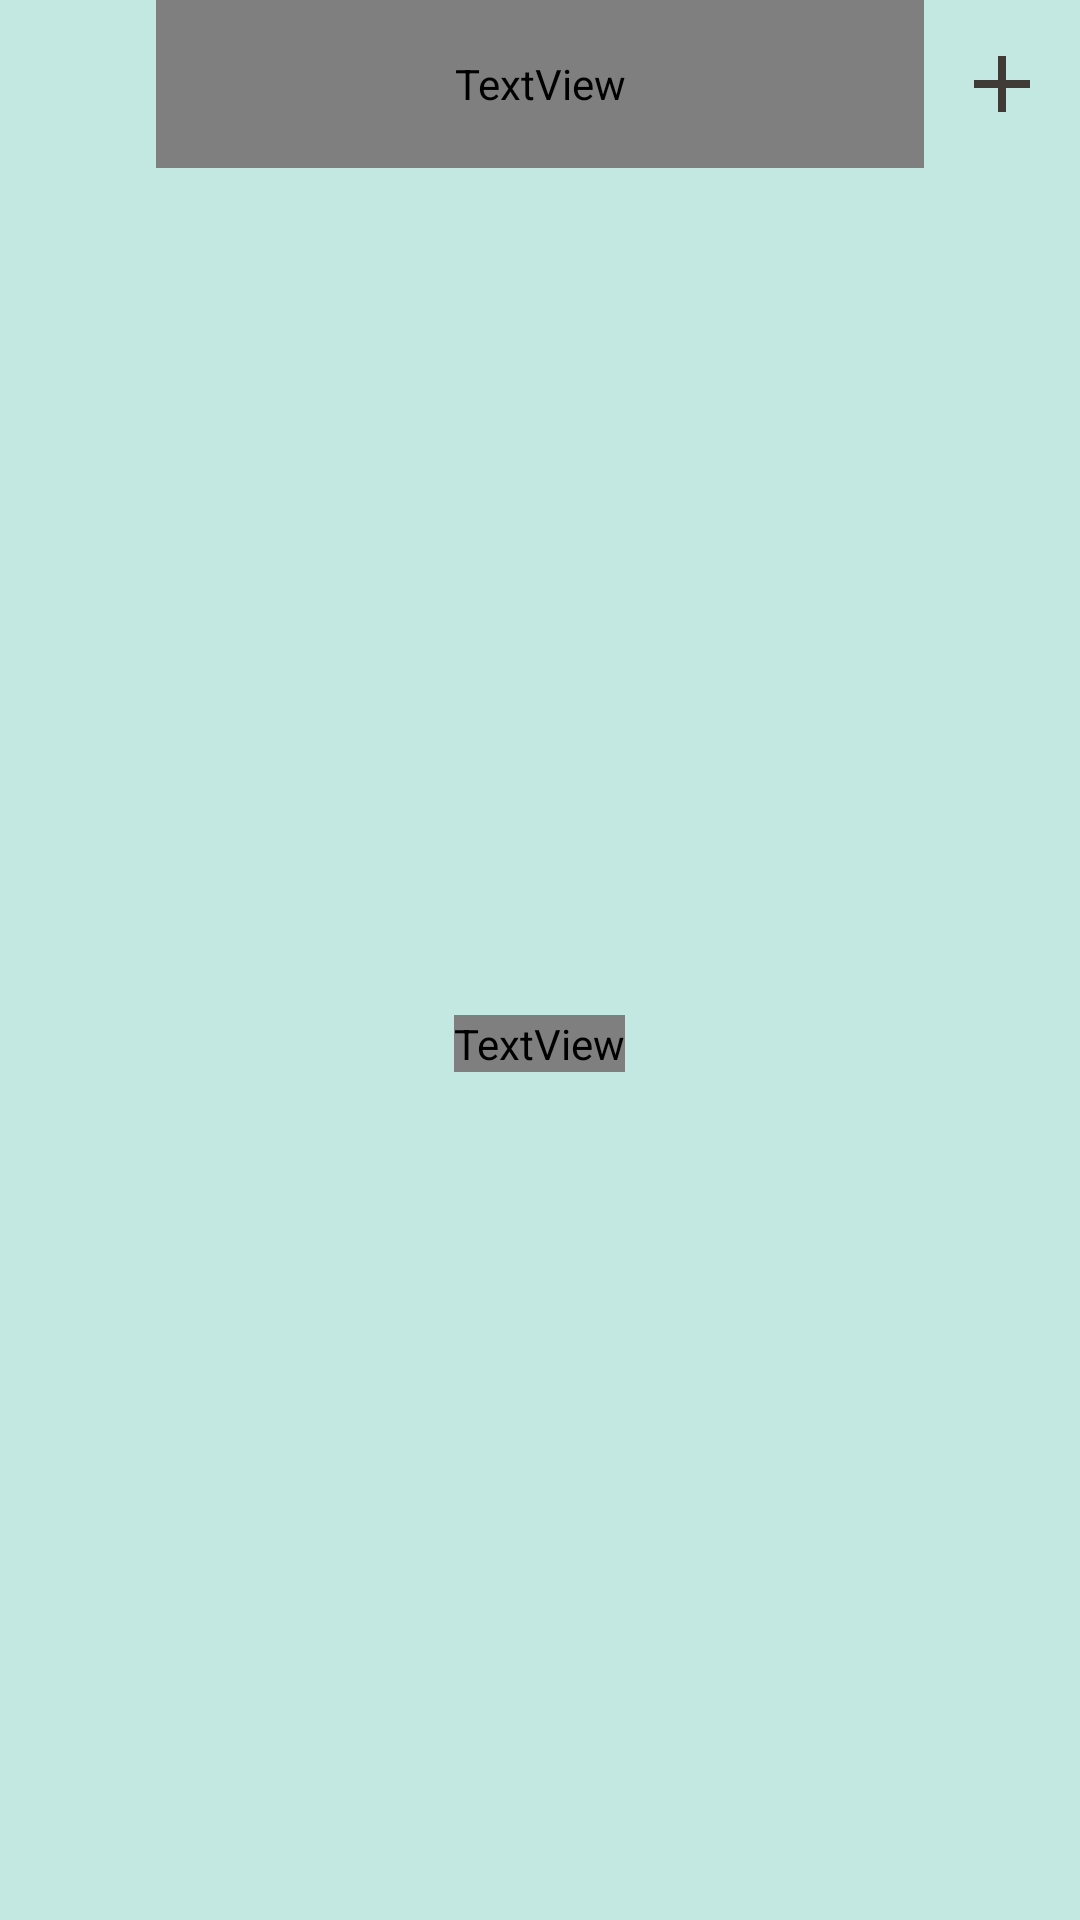

Screen size 1080px x 1920px. Icon name, then its box in pixels as {"left": x1, "top": y1, "right": x2, "bottom": y2}:
add: {"left": 974, "top": 56, "right": 1030, "bottom": 112}
